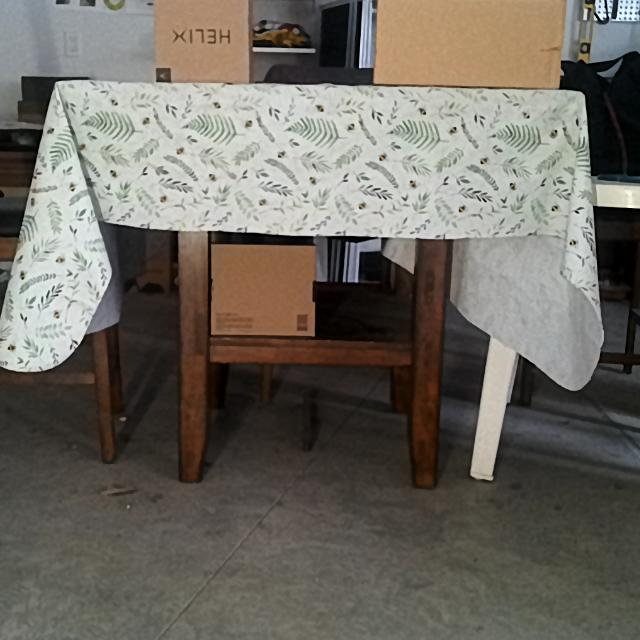box: (374, 0, 559, 87), (211, 243, 317, 335), (153, 0, 250, 85)
